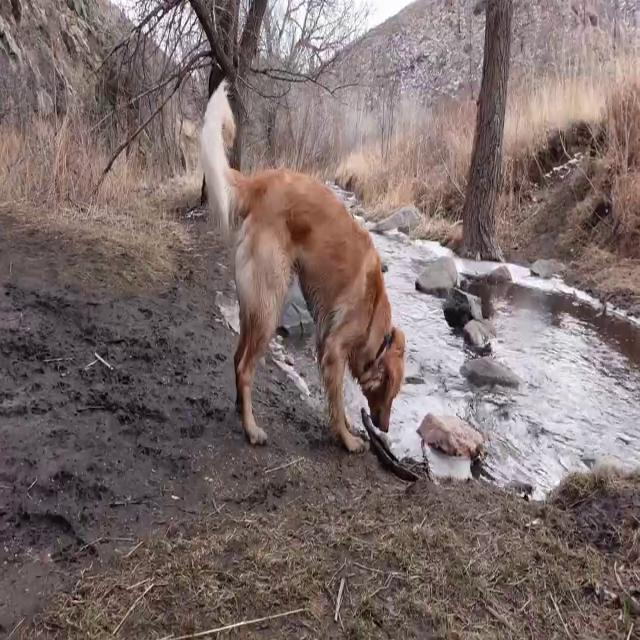Dog: (201, 80, 406, 456)
